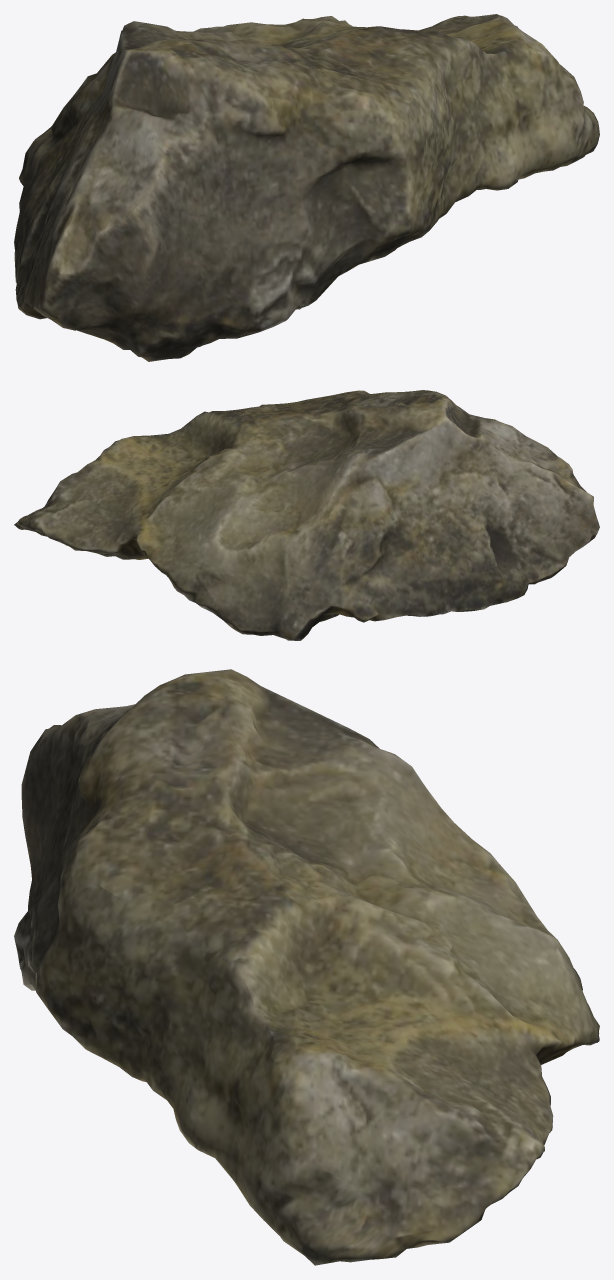
Rendered from moss_stone_9.glb.
3 renders of one model, top to bottom at view 1: azimuth 30°, elevation 25°; view 2: azimuth 150°, elevation 25°; view 3: azimuth 270°, elevation 25°, orthographic. The views are drawn at different scales.
Visible parts, largest first — view 1: moss_stone_9; view 2: moss_stone_9; view 3: moss_stone_9.
Part boxes in pixels (x1,y1,x2,y2): moss_stone_9: [14, 14, 599, 361]; moss_stone_9: [14, 390, 599, 640]; moss_stone_9: [14, 669, 599, 1265].
Size of the model in its own units: 1 by 0.374 by 0.6209.
Materials: 1 (1 with a texture image).
